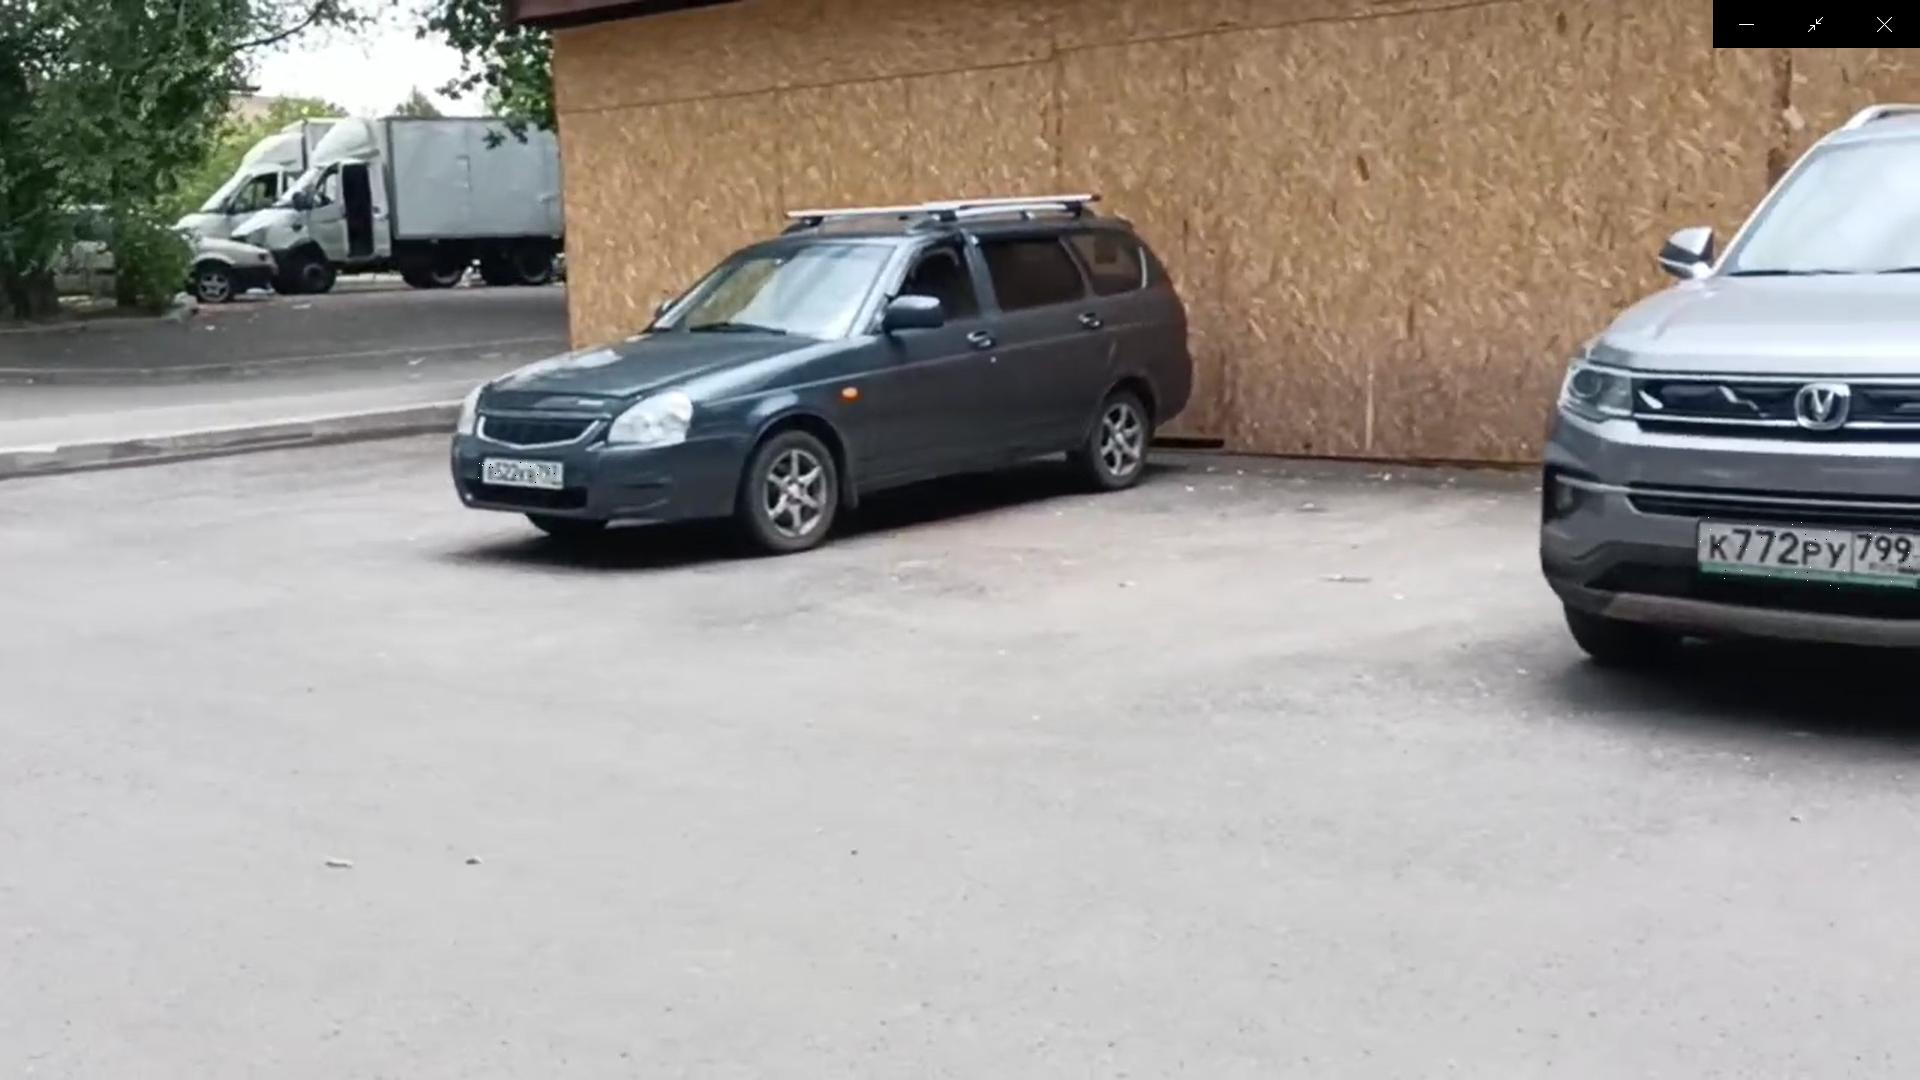plate: (1699, 517, 1915, 592), (479, 463, 560, 487)
